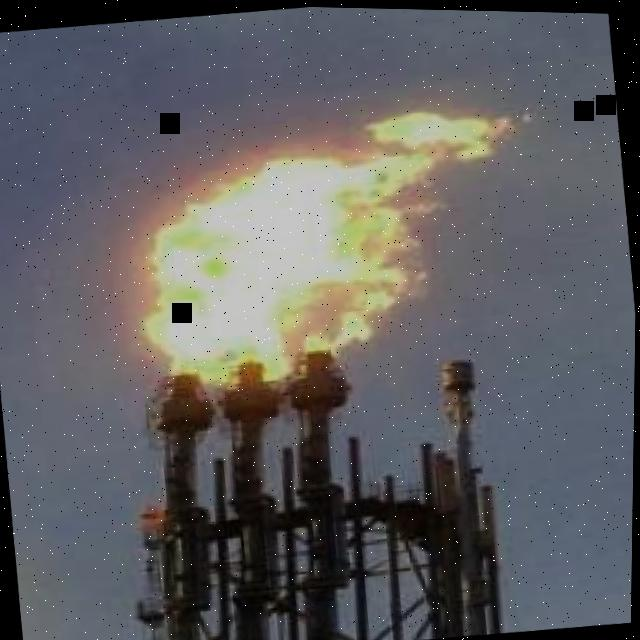fire: (137, 106, 512, 385)
